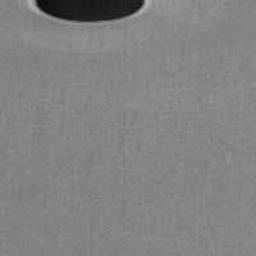Punching: (36, 0, 144, 22)
